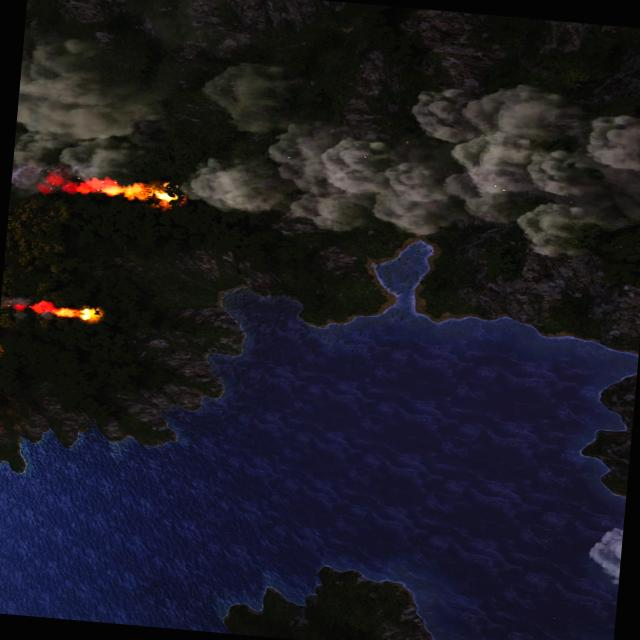fire: (41, 170, 127, 200), (32, 297, 101, 321), (123, 179, 177, 207), (0, 343, 3, 357)
smoke: (182, 53, 640, 267), (10, 35, 166, 214), (586, 520, 624, 580)
